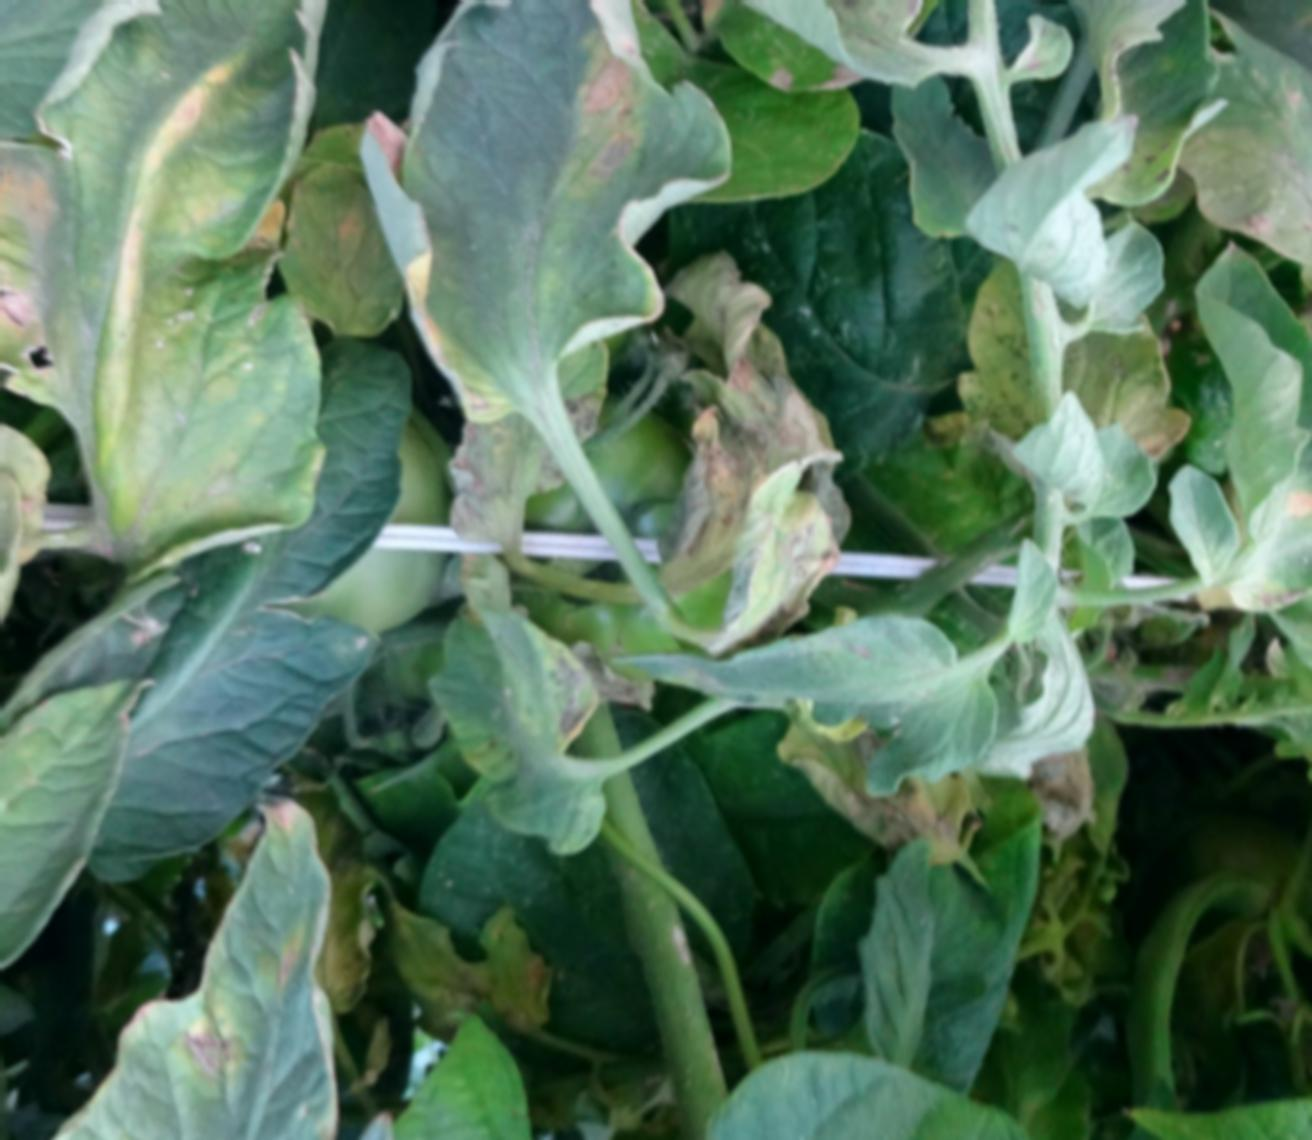Tomato leaf late blight: (368, 0, 723, 472), (0, 777, 390, 1140), (611, 617, 1012, 808), (1163, 213, 1312, 637), (421, 572, 624, 866)
